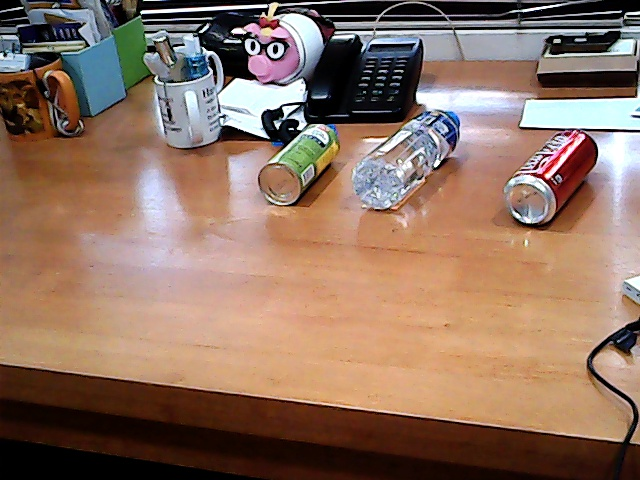Cola: (481, 108, 610, 240)
Pine Juice: (246, 110, 347, 222)
Summit Water: (339, 88, 467, 223)
